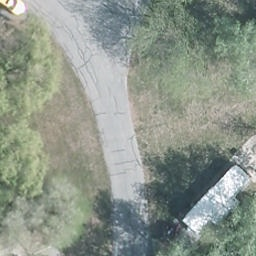camping car: (183, 166, 252, 236)
car: (0, 0, 25, 16)
